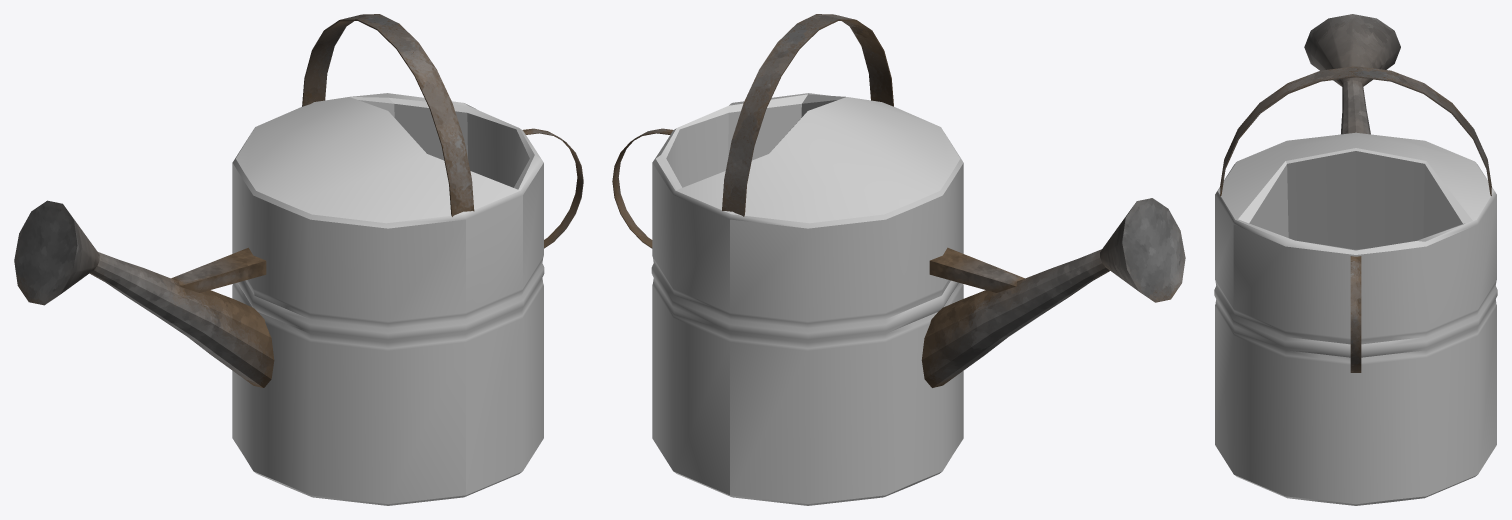
Rendered from Regador.fbx.
The picture shows the model from 3 angles, left to right: view 1: azimuth 30°, elevation 25°; view 2: azimuth 150°, elevation 25°; view 3: azimuth 270°, elevation 25°; orthographic projection. The views are drawn at different scales.
Parts seen in each view (by area): view 1: Regador, bico_regador_MESH, Alca_superior_MESH, Suporte_bico_MESH, Alca_traseira_MESH; view 2: Regador, bico_regador_MESH, Alca_superior_MESH, Suporte_bico_MESH, Alca_traseira_MESH; view 3: Regador, bico_regador_MESH, Alca_superior_MESH, Alca_traseira_MESH.
Part boxes in pixels (bbox=[...]): Regador: bbox=[232, 93, 544, 505]; bico_regador_MESH: bbox=[14, 200, 274, 387]; Alca_superior_MESH: bbox=[302, 14, 474, 216]; Suporte_bico_MESH: bbox=[171, 247, 266, 292]; Alca_traseira_MESH: bbox=[523, 128, 583, 248]; Regador: bbox=[651, 93, 963, 505]; bico_regador_MESH: bbox=[921, 198, 1185, 387]; Alca_superior_MESH: bbox=[722, 14, 893, 216]; Suporte_bico_MESH: bbox=[929, 247, 1024, 292]; Alca_traseira_MESH: bbox=[612, 128, 673, 248]; Regador: bbox=[1214, 132, 1497, 505]; bico_regador_MESH: bbox=[1304, 14, 1400, 134]; Alca_superior_MESH: bbox=[1220, 66, 1491, 196]; Alca_traseira_MESH: bbox=[1350, 256, 1361, 372].
Bounding box in the file's own units: 82.17 × 58.91 × 40.14.
